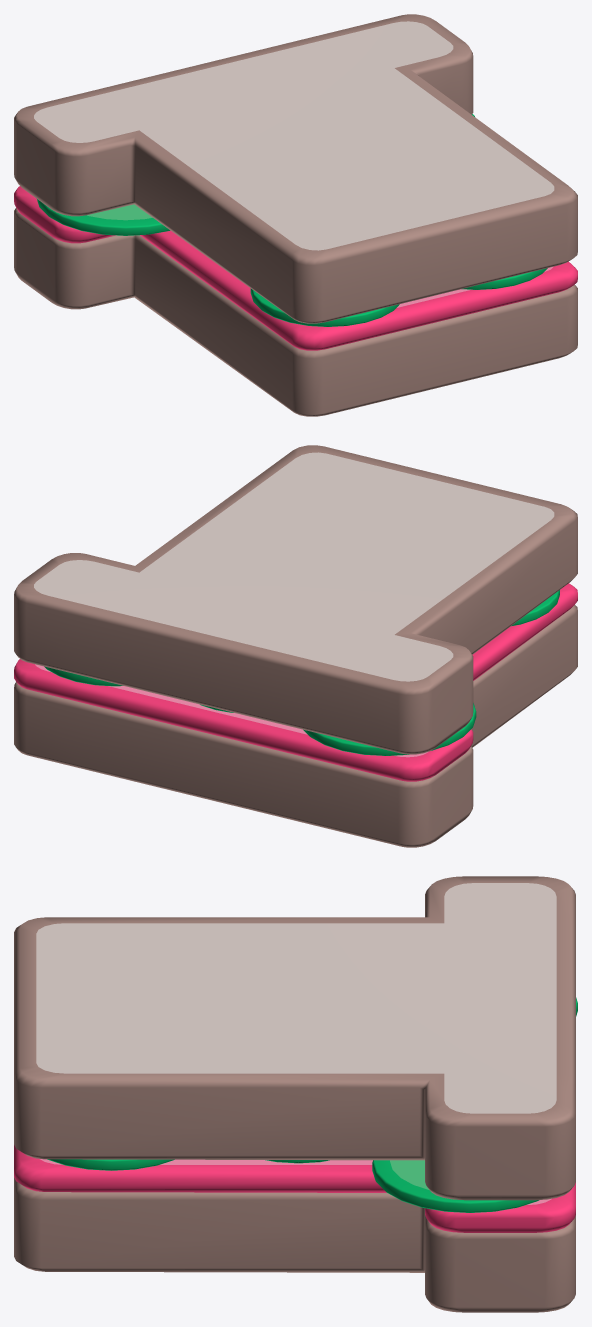
The model's file is Store_18_Big_Sandwich_1.glb.
3 renders of one model, top to bottom at view 1: azimuth 30°, elevation 25°; view 2: azimuth 150°, elevation 25°; view 3: azimuth 270°, elevation 25°, orthographic. The views are drawn at different scales.
Visible parts, largest first — view 1: Store_18_Big_Sandwich_1; view 2: Store_18_Big_Sandwich_1; view 3: Store_18_Big_Sandwich_1.
Part boxes in pixels (<box>): Store_18_Big_Sandwich_1: <box>14,14,577,416</box>; Store_18_Big_Sandwich_1: <box>14,445,577,847</box>; Store_18_Big_Sandwich_1: <box>14,876,577,1312</box>.
Size of the model in its own units: 2.25 by 0.8167 by 2.17.
Materials: 1 (1 with a texture image).
